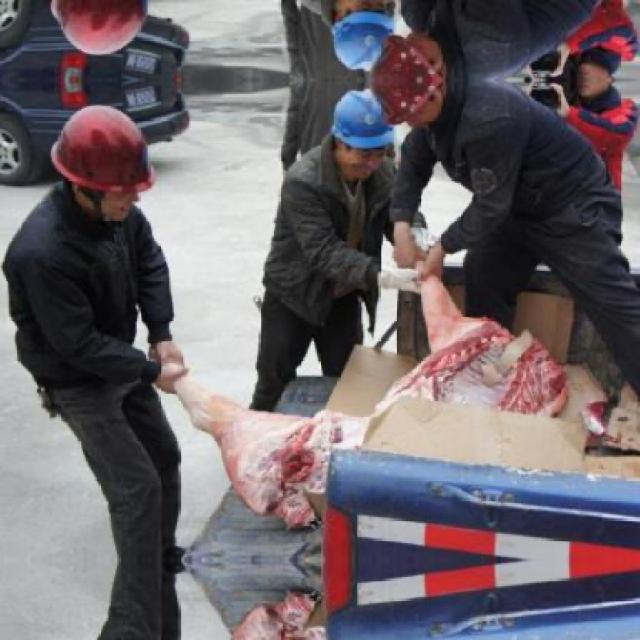helmet: (45, 106, 160, 220), (320, 92, 405, 191), (43, 0, 160, 55), (318, 0, 404, 69), (371, 35, 455, 80), (371, 82, 455, 126)
